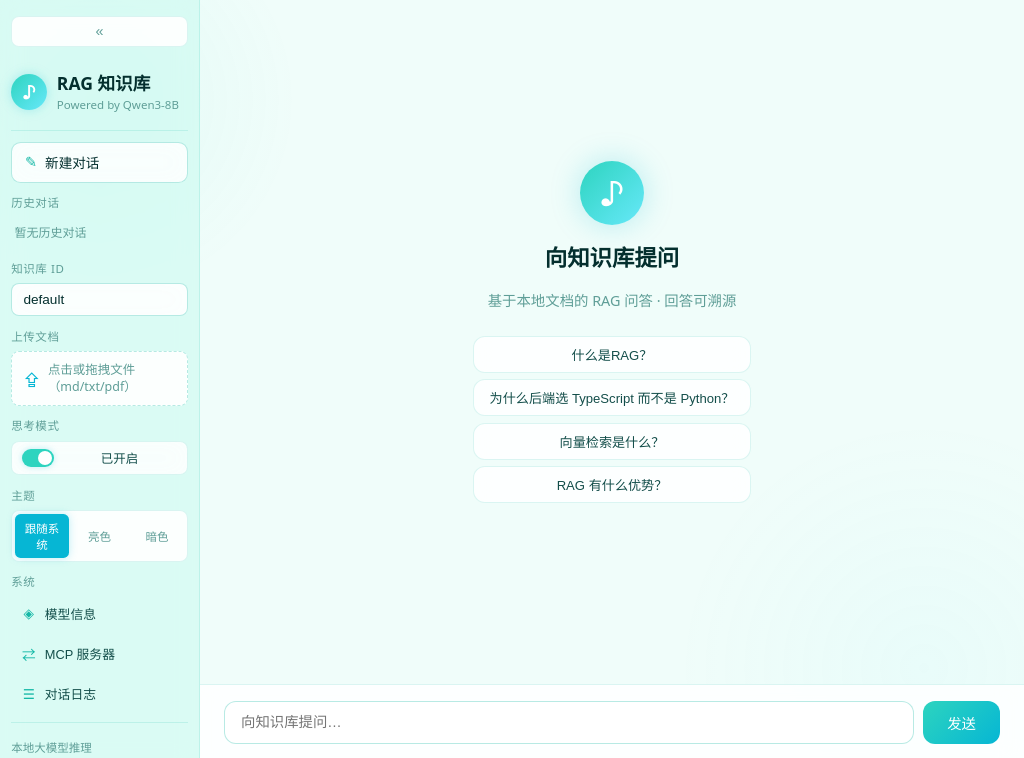
Scenario: 推理引擎切换 › 切换失败（500）→ 展示错误信息
Click the button "◈ 模型信息".
click(100, 613)  # box top-left (11, 597), bottom-right (188, 630)
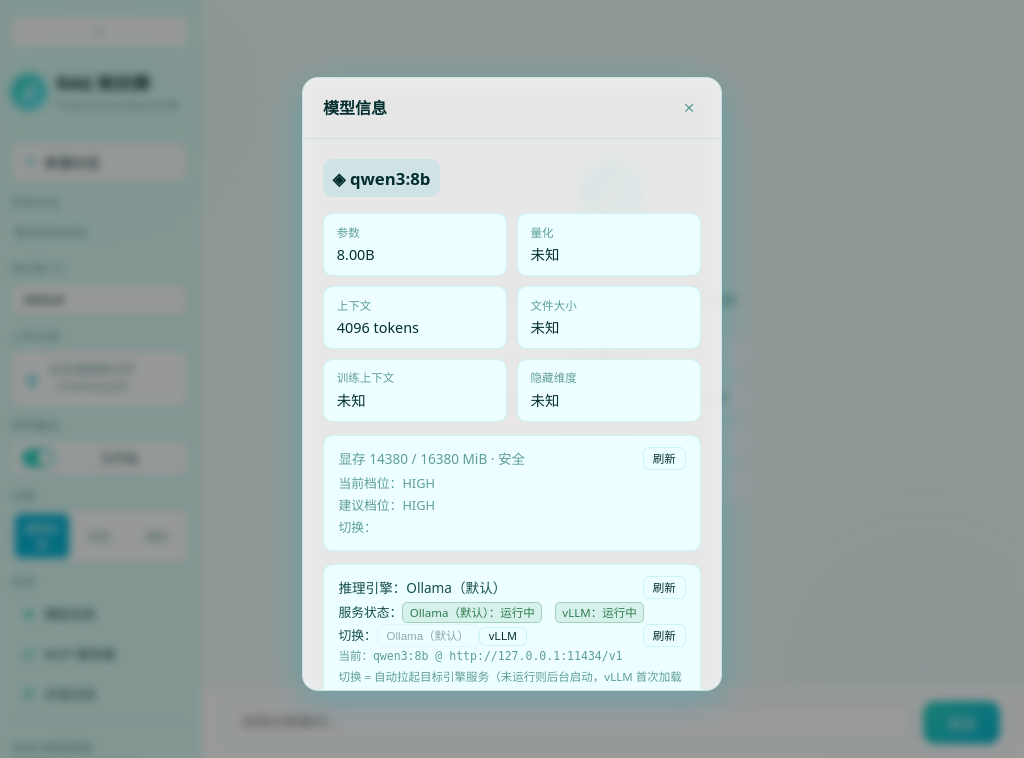
Expected: the text "推理引擎：Ollama（默认） 刷新" is shown, top-left (338, 576), bottom-right (686, 599)
Click the button "vLLM".
click(503, 636)  # box top-left (479, 627), bottom-right (527, 646)
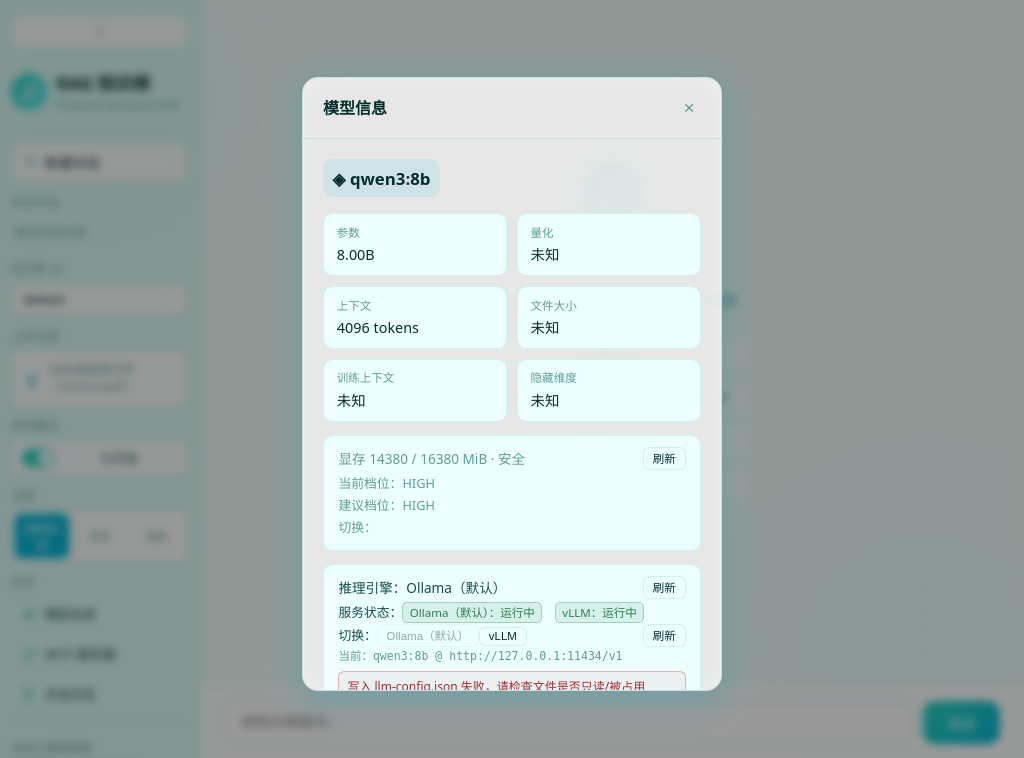
Expected: the text "写入 llm-config.json 失败，请检查文件是否只读/被占用" is shown, top-left (338, 671), bottom-right (686, 691)
